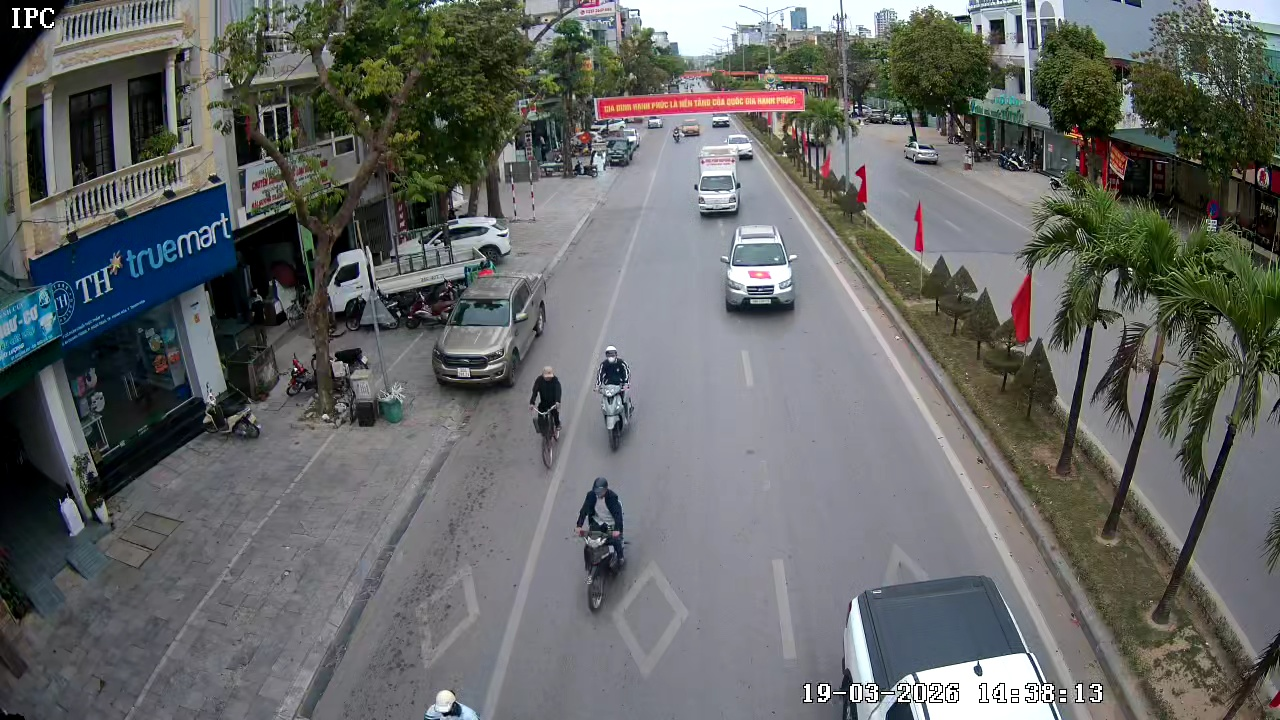bike: (528, 365, 565, 470)
bus: (1149, 319, 1279, 718), (696, 152, 741, 218)
car: (430, 271, 547, 388), (719, 225, 798, 313), (694, 165, 743, 218)
motorbike: (572, 476, 631, 613), (593, 345, 637, 452)
truck: (604, 135, 642, 169)
